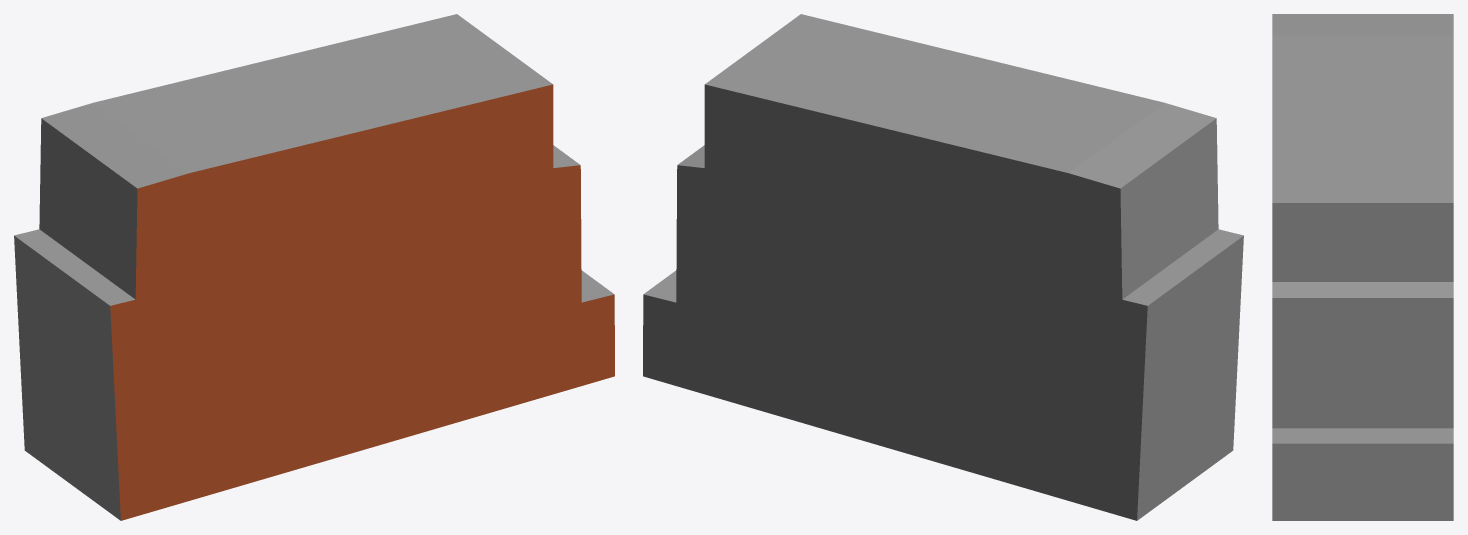
File: construction_5249_assumed_A_Casa_h6m.obj
The picture shows the model from 3 angles, left to right: view 1: azimuth 30°, elevation 25°; view 2: azimuth 150°, elevation 25°; view 3: azimuth 270°, elevation 25°; orthographic projection. The views are drawn at different scales.
Visible parts, largest first — view 1: construction_5249_assumed_A_Casa; view 2: construction_5249_assumed_A_Casa; view 3: construction_5249_assumed_A_Casa.
Part boxes in pixels (box(x1,y1,x2,y2)): construction_5249_assumed_A_Casa: box(14, 14, 614, 520); construction_5249_assumed_A_Casa: box(643, 14, 1243, 520); construction_5249_assumed_A_Casa: box(1272, 14, 1453, 520).
Size of the model in its own units: 18.17 by 11.39 by 6.
